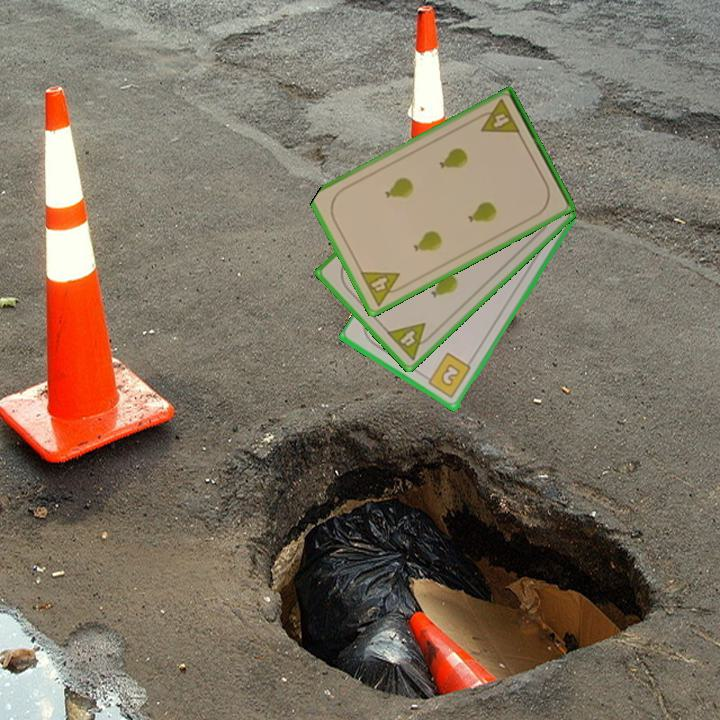2b: (420, 350, 474, 401)
4p: (383, 319, 437, 363), (356, 268, 409, 309), (472, 96, 523, 137)
